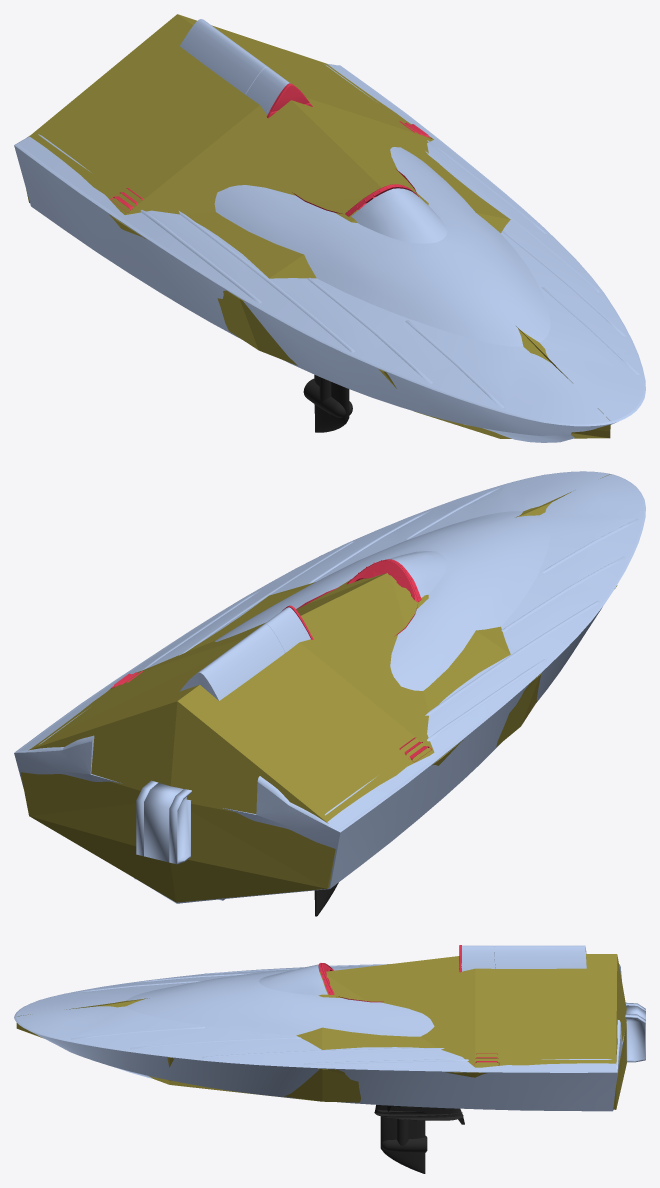
File: Racer.fbx
3 renders of one model, top to bottom at view 1: azimuth 30°, elevation 25°; view 2: azimuth 150°, elevation 25°; view 3: azimuth 270°, elevation 25°, orthographic. The views are drawn at different scales.
Parts seen in each view (by area): view 1: Hull, SimMesh, Motor; view 2: Hull, SimMesh; view 3: Hull, SimMesh, Motor.
Boxes of the visible parts, x1,y1,x2,y2 form: Hull: [14, 19, 645, 442]; SimMesh: [26, 14, 610, 438]; Motor: [303, 374, 352, 432]; Hull: [14, 471, 645, 903]; SimMesh: [20, 474, 617, 902]; Hull: [14, 945, 645, 1111]; SimMesh: [16, 954, 626, 1109]; Motor: [374, 1105, 464, 1173].
Size of the model in its own units: 1385 by 575 by 552.
